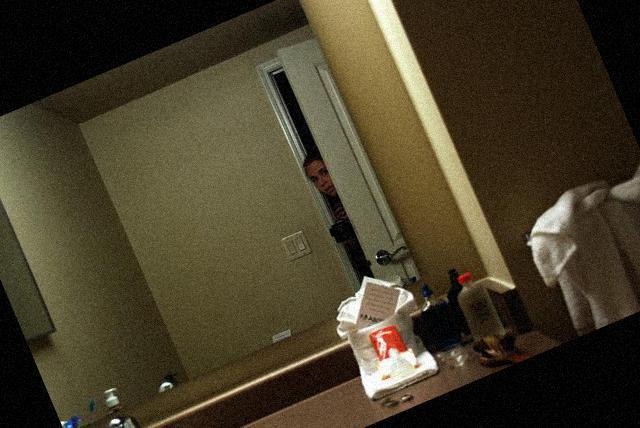Lavamanos: (65, 358, 280, 428)
